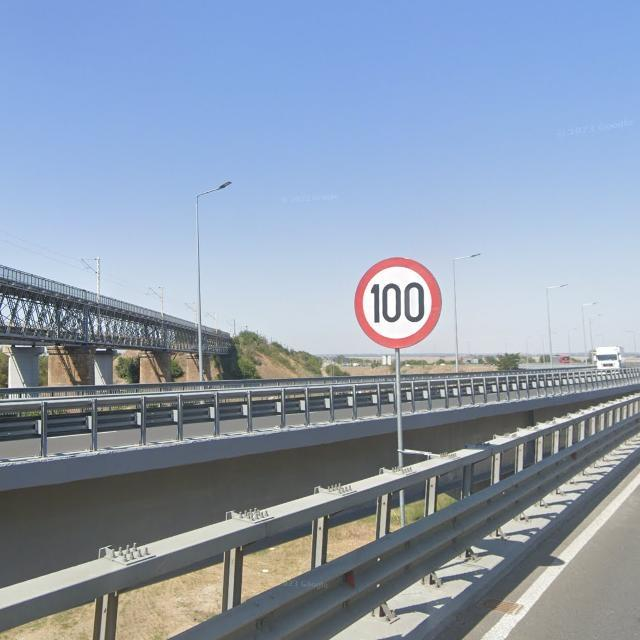forb_speed_over_100: (354, 256, 442, 350)
